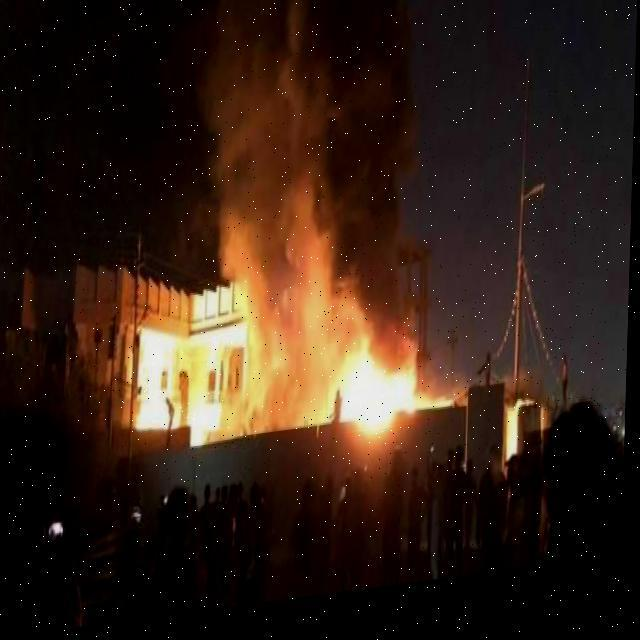Fire: (134, 219, 472, 468)
